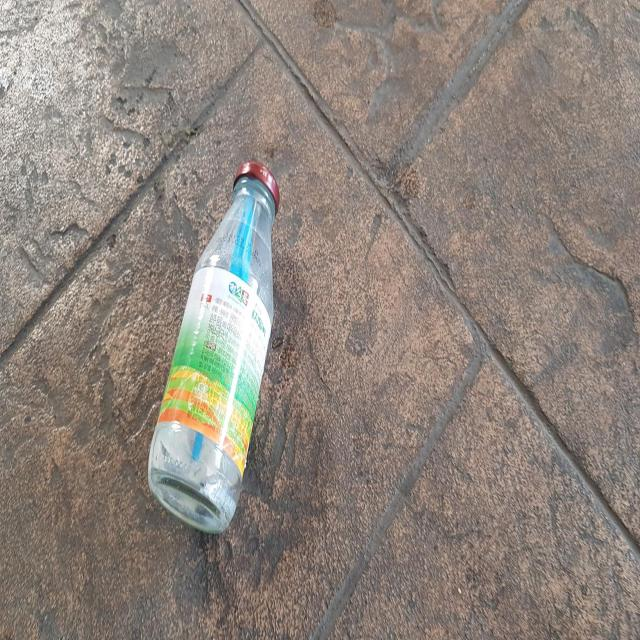glass: (148, 161, 279, 532)
